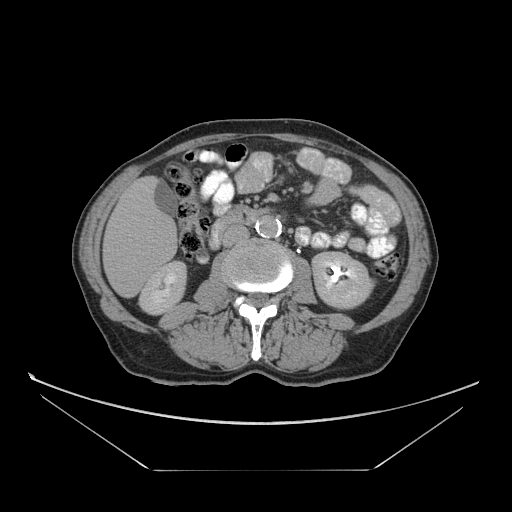left_kidney: (134, 260, 192, 313)
right_kidney: (304, 245, 379, 311)
